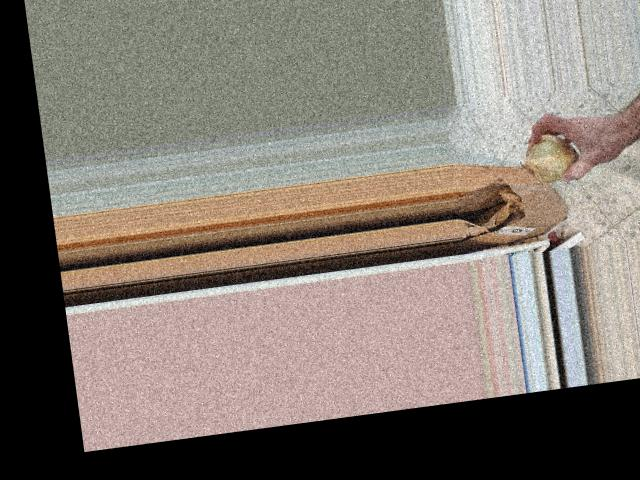onion: (518, 129, 585, 187)
